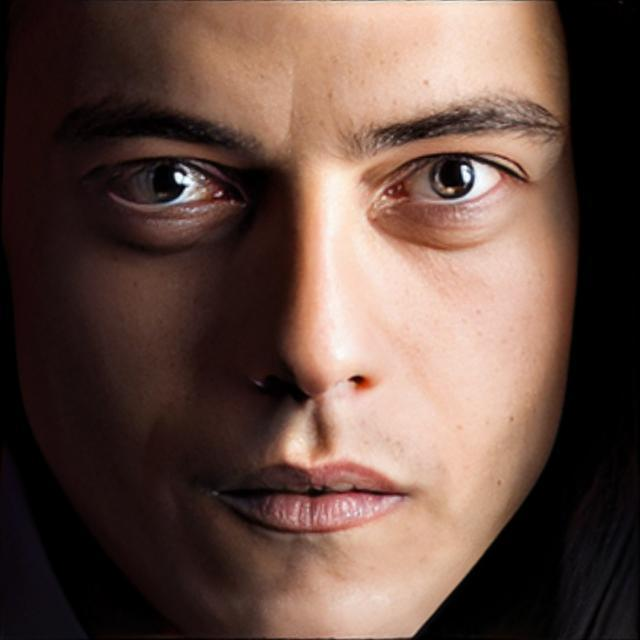fear: (8, 0, 580, 640)
